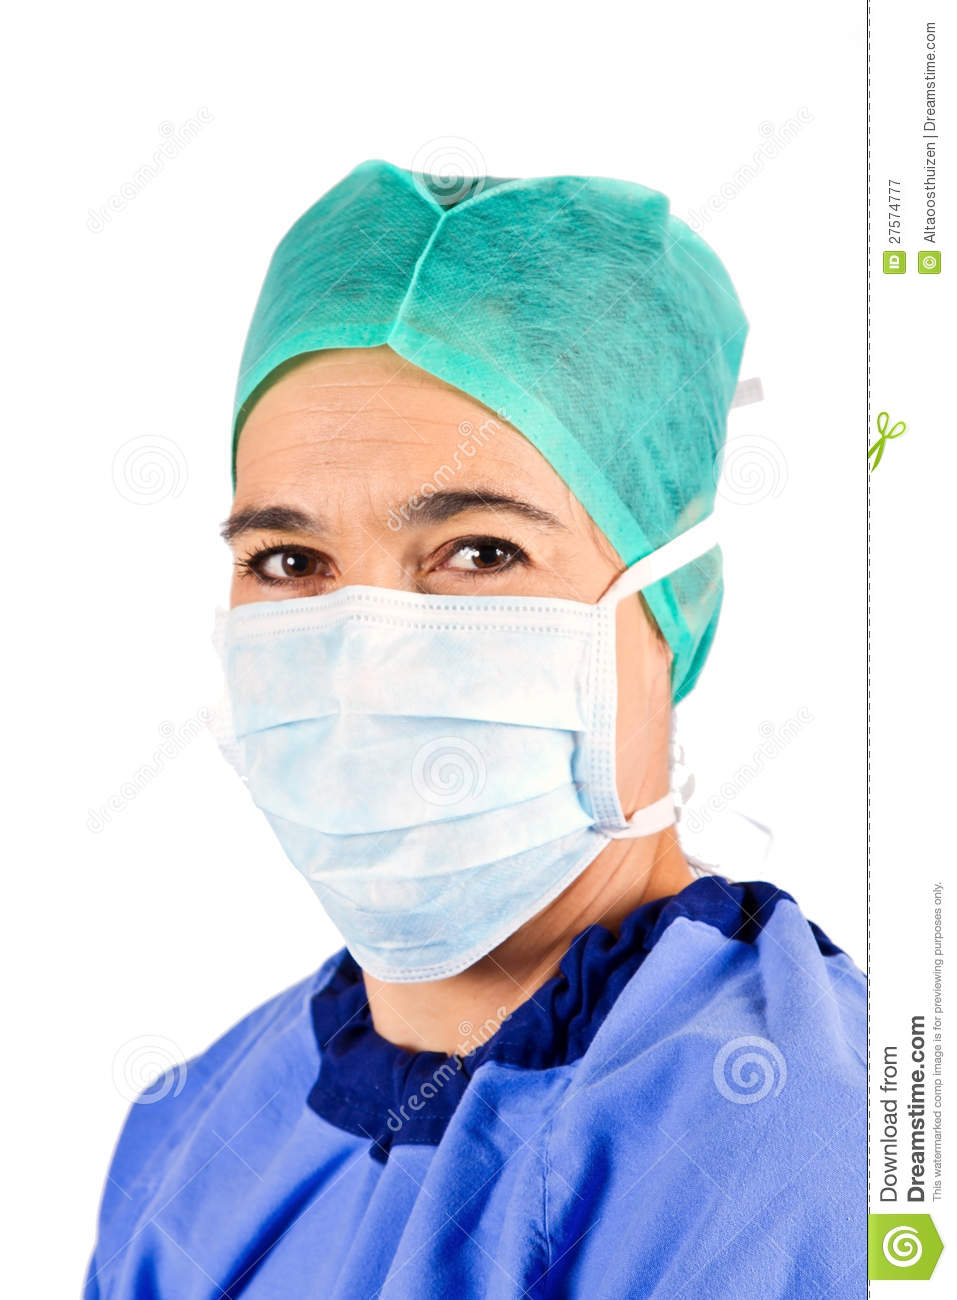mask: (188, 579, 644, 985)
